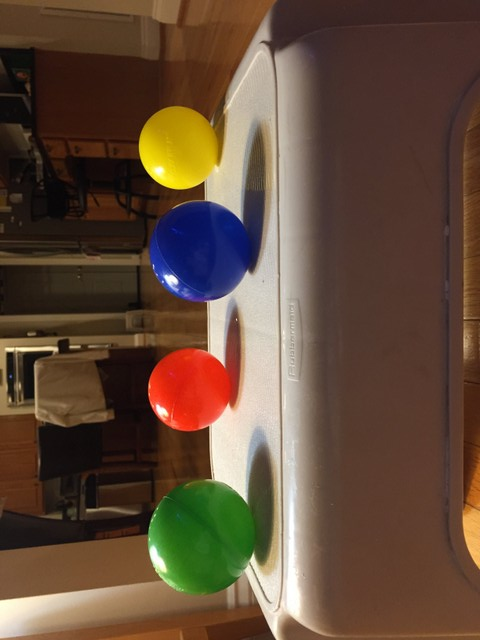Ball: (139, 104, 222, 192)
